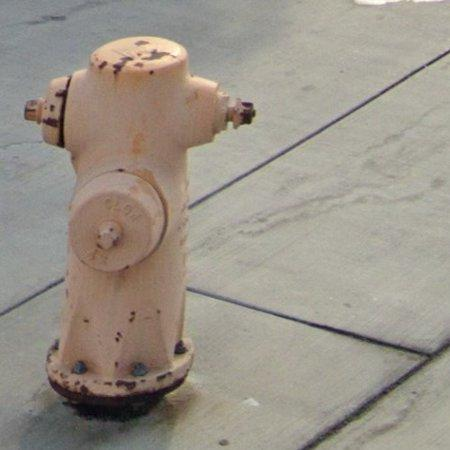a fire hydrant: (24, 36, 255, 416)
